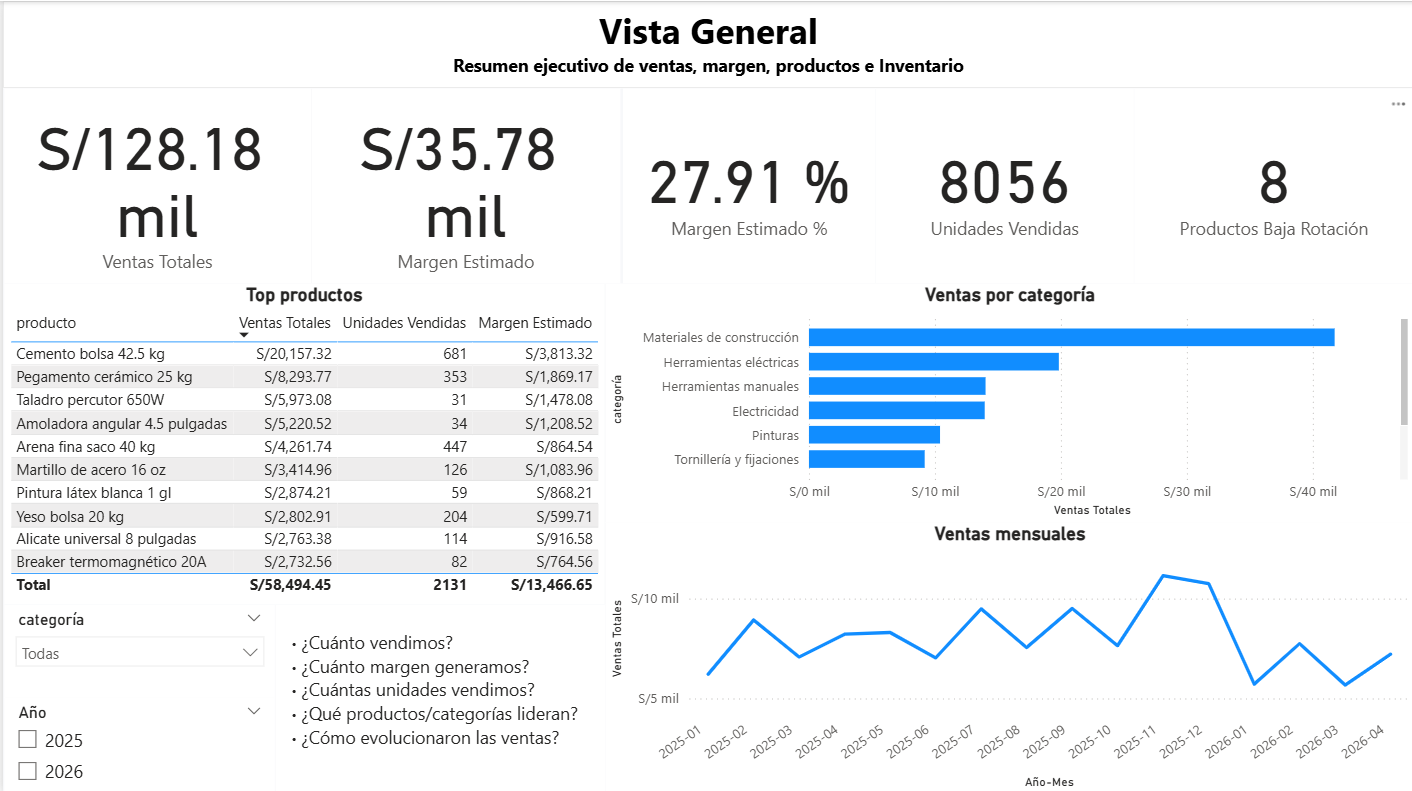

This screenshot's page, from the dashboard's own definition file:
{"tool":"powerbi","page":{"name":"Vista General","canvas":[1280,720],"ordinal":1},"visuals":[{"type":"card","fields":{"Values":["Medidas.Ventas Totales"]},"box":[1.4,79.6,278.6,177],"z":0},{"type":"card","fields":{"Values":["Medidas.Margen Estimado"]},"box":[279.9,79.6,279.9,177],"z":1000},{"type":"card","fields":{"Values":["Medidas.Margen Estimado %"]},"box":[562.6,79.6,229.2,177],"z":2000},{"type":"card","fields":{"Values":["Medidas.Unidades Vendidas"]},"box":[791.8,79.6,234.6,177],"z":3000},{"type":"card","fields":{"Values":["Medidas.Productos Baja Rotación"]},"box":[1026.4,79.6,253.9,177],"z":4000},{"type":"lineChart","title":"Ventas mensuales","fields":{"Category":["Calendario.Año-Mes"],"Y":["Medidas.Ventas Totales"]},"box":[546.1,473.4,734.1,247],"z":5000},{"type":"clusteredBarChart","title":"Ventas por categoría","fields":{"Category":["Productos.categoría"],"Y":["Medidas.Ventas Totales"]},"box":[546.1,256.6,734.1,216.8],"z":6000},{"type":"tableEx","title":"Top productos","fields":{"Values":["Ventas.producto","Medidas.Ventas Totales","Medidas.Unidades Vendidas","Medidas.Margen Estimado"]},"box":[1.4,256.6,544.8,290.9],"z":7000},{"type":"slicer","fields":{"Values":["Calendario.Año"]},"box":[1.4,631.2,245.6,89.2],"z":8000},{"type":"slicer","fields":{"Values":["Productos.categoría"]},"box":[1.4,547.5,245.6,83.7],"z":9000},{"type":"textbox","box":[0,0,1280.3,79.6],"z":10000},{"type":"textbox","box":[247,547.5,299.1,172.9],"z":11000}]}

Visuals, with their boxes in screenshot pixels (x1, y1, x2, y2), scaled from the page's 1280x720 canvas onto the 1412x791 screenshot:
card - Medidas.Ventas Totales: bbox=(2, 87, 309, 282)
card - Medidas.Margen Estimado: bbox=(309, 87, 618, 282)
card - Medidas.Margen Estimado %: bbox=(621, 87, 873, 282)
card - Medidas.Unidades Vendidas: bbox=(873, 87, 1132, 282)
card - Medidas.Productos Baja Rotación: bbox=(1132, 87, 1411, 282)
"Ventas mensuales" lineChart: bbox=(602, 520, 1411, 790)
"Ventas por categoría" clusteredBarChart: bbox=(602, 282, 1411, 520)
"Top productos" tableEx: bbox=(2, 282, 603, 601)
slicer - Calendario.Año: bbox=(2, 693, 272, 790)
slicer - Productos.categoría: bbox=(2, 601, 272, 693)
textbox: bbox=(0, 0, 1411, 87)
textbox: bbox=(272, 601, 602, 790)
